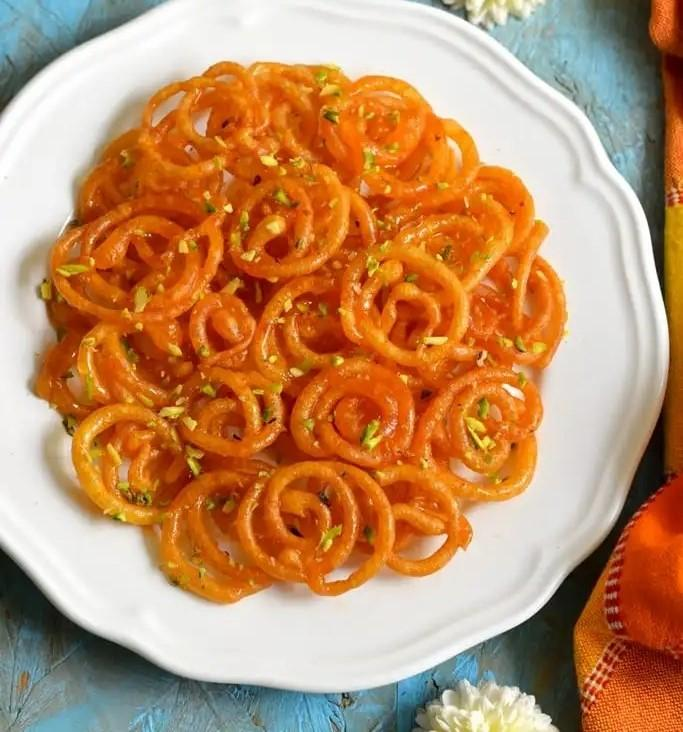Jalebi: (32, 56, 566, 606)
